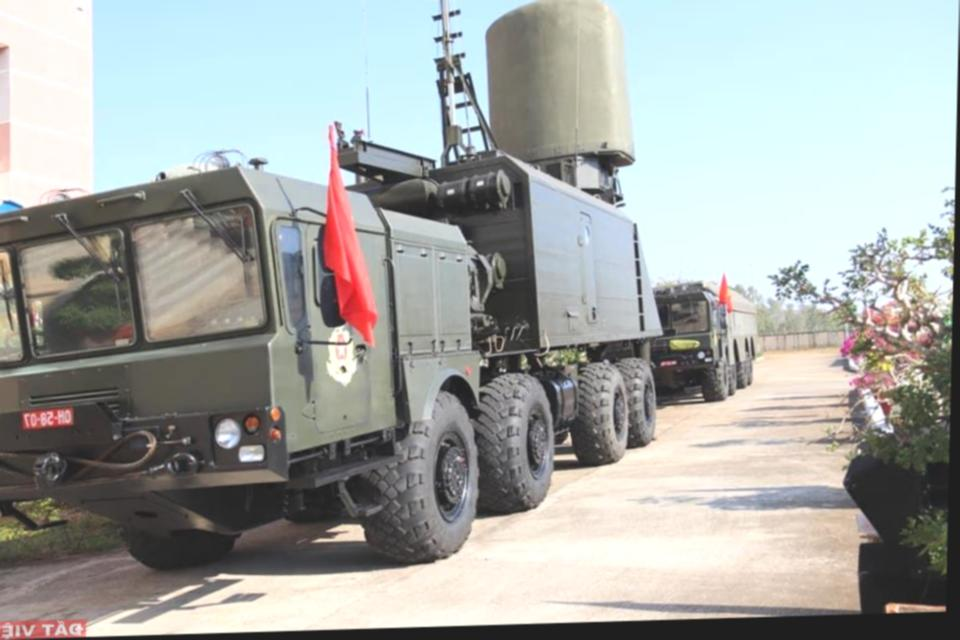License_Plate: (20, 404, 77, 433)
